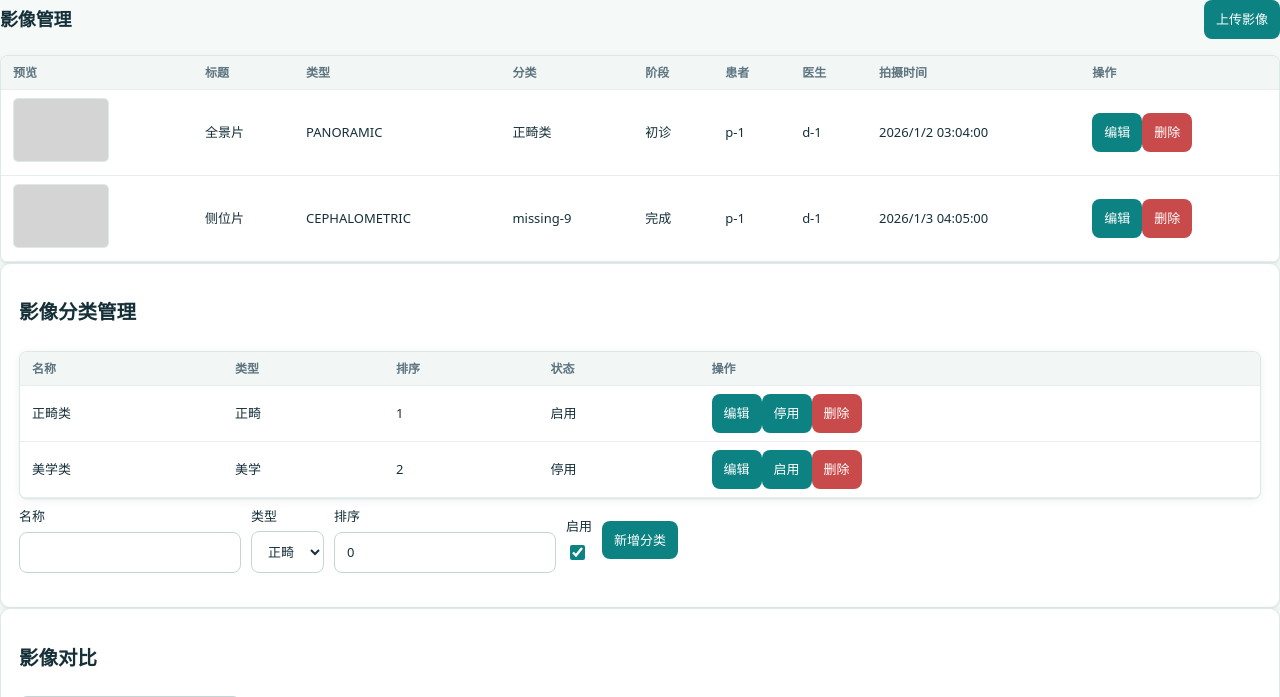
Test case: ImagingPage › validates required fields
Expected: the text "全景片" is shown, [193,90,294,176]
Click the button "上传影像": {"x": 1242, "y": 19} [1204,0,1279,39]
(page scrolled)
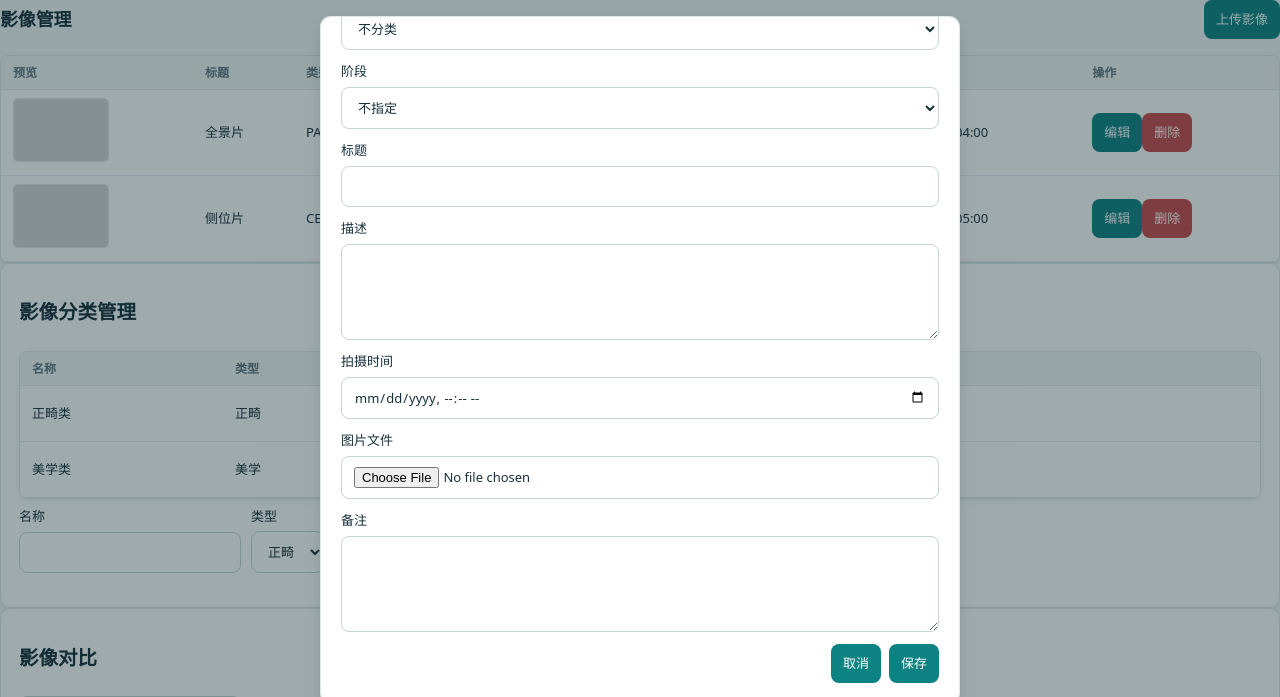
Click the button "保存": {"x": 914, "y": 664} [889,644,939,683]
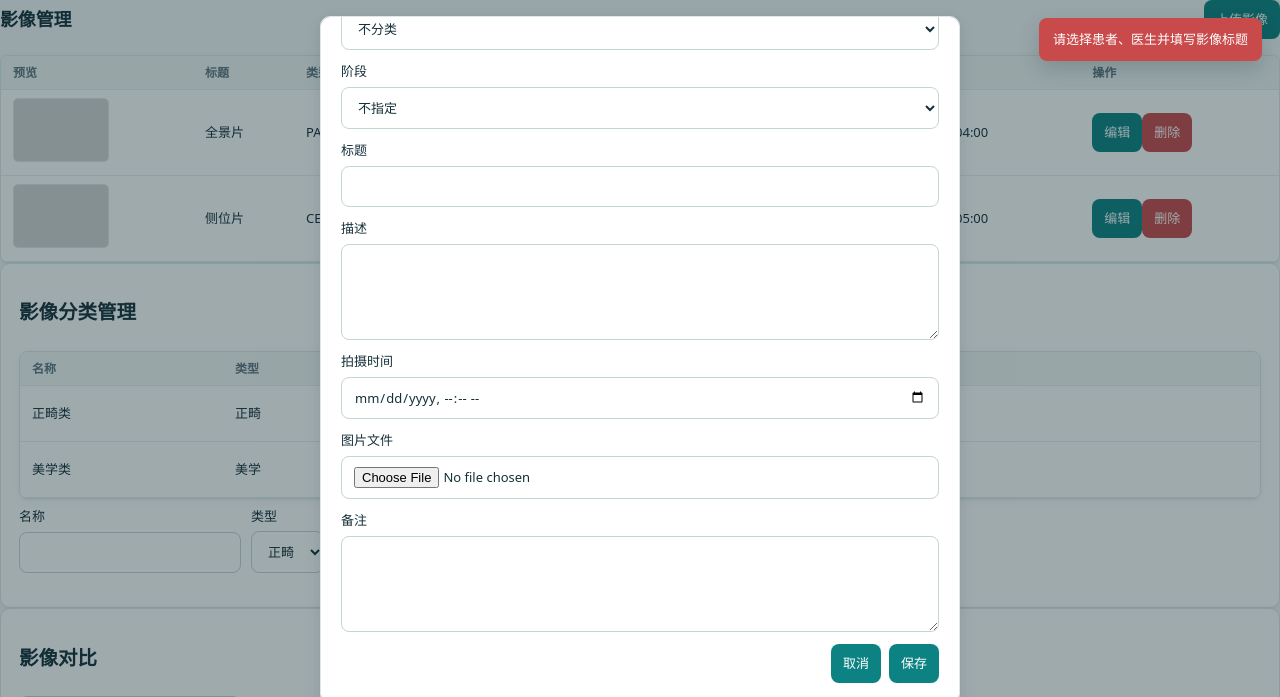
Expected: the text "请选择患者、医生并填写影像标题" is shown, [1039,18,1262,61]
